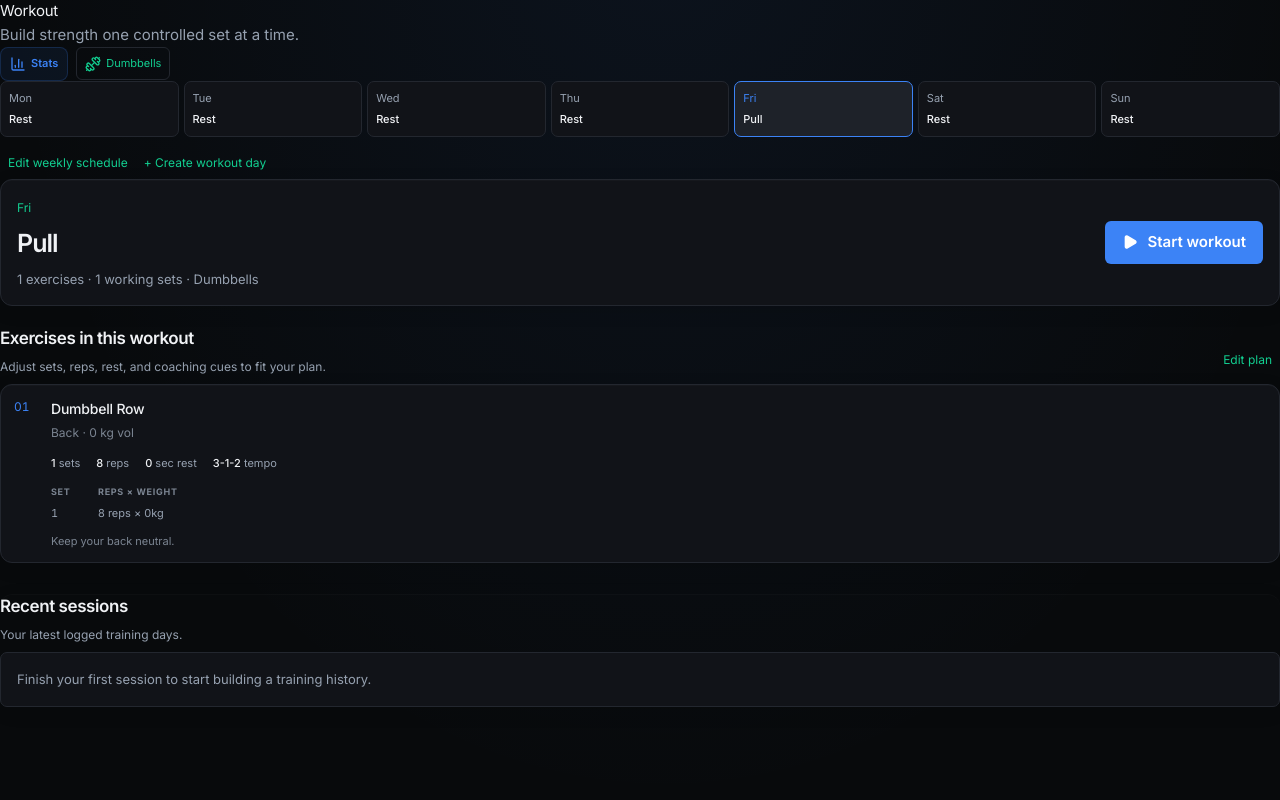
WorkoutPage › starts, pauses, resumes, and safely discards an unfinished session
The image size is (1280, 800).
Click the button "Start workout": (1184, 242) [1106,221,1263,264]
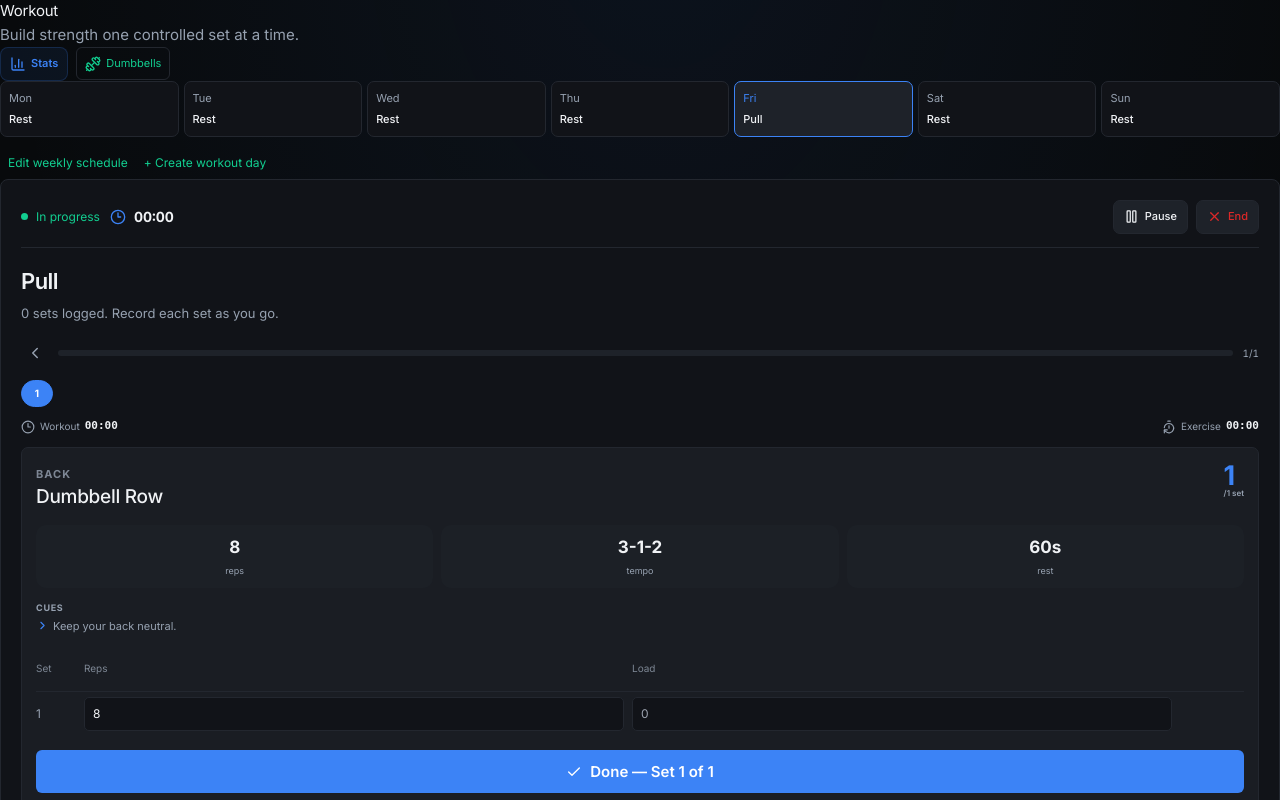
Check: the heading "Pull" is shown, box [21,268,58,294]
Click the button "Pause": (1150, 216) [1113,200,1188,234]
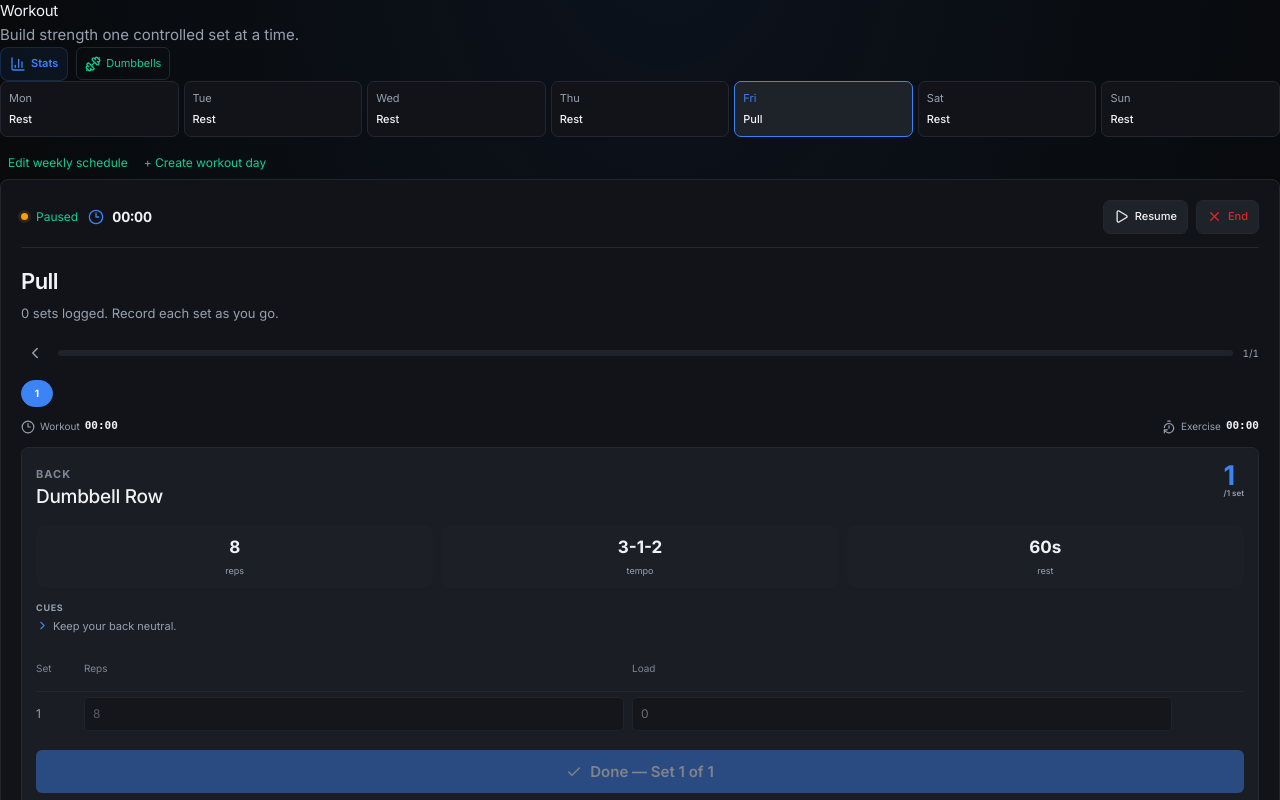
Check: the button "Resume" is shown
Check: the button "Done — Set 1 of 1" is disabled, box [36,750,1244,793]
Click the button "Resume": (1145, 216) [1103,200,1188,234]
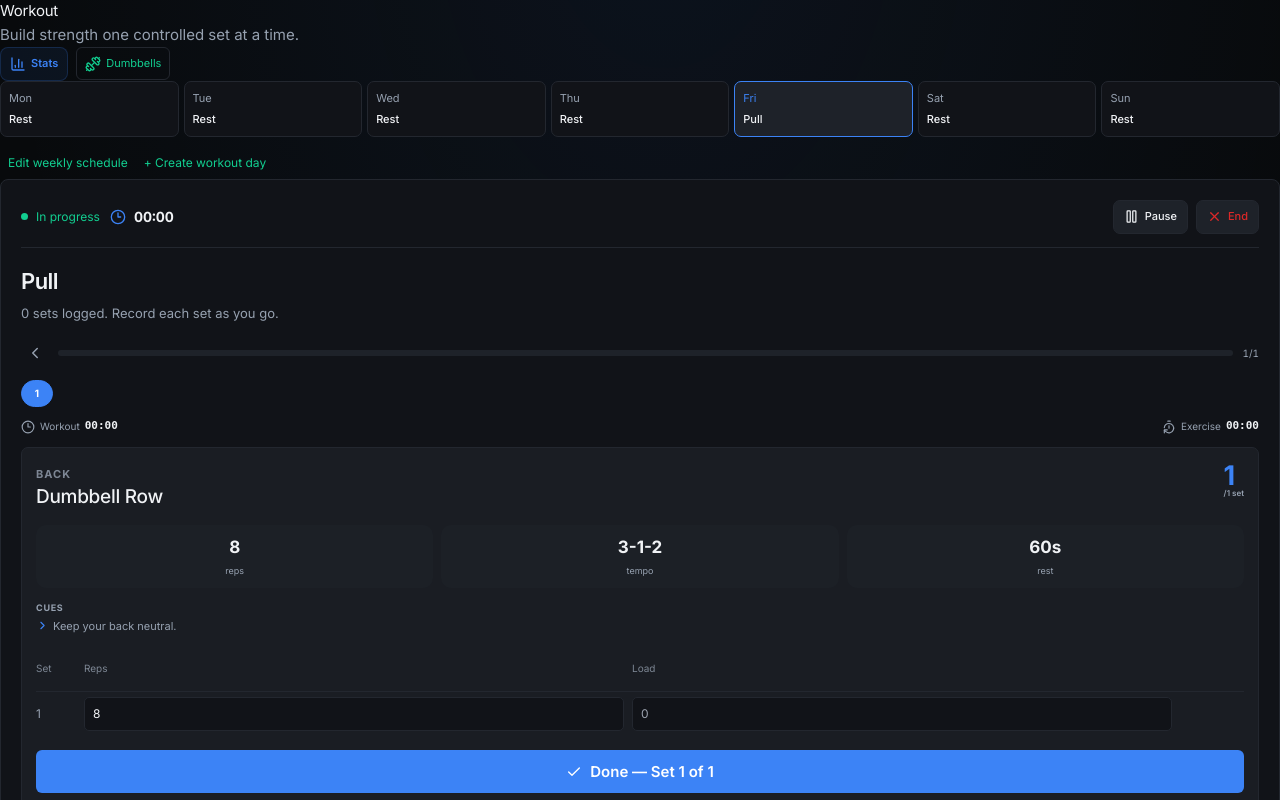
Click the button "End": (1227, 216) [1196,200,1259,234]
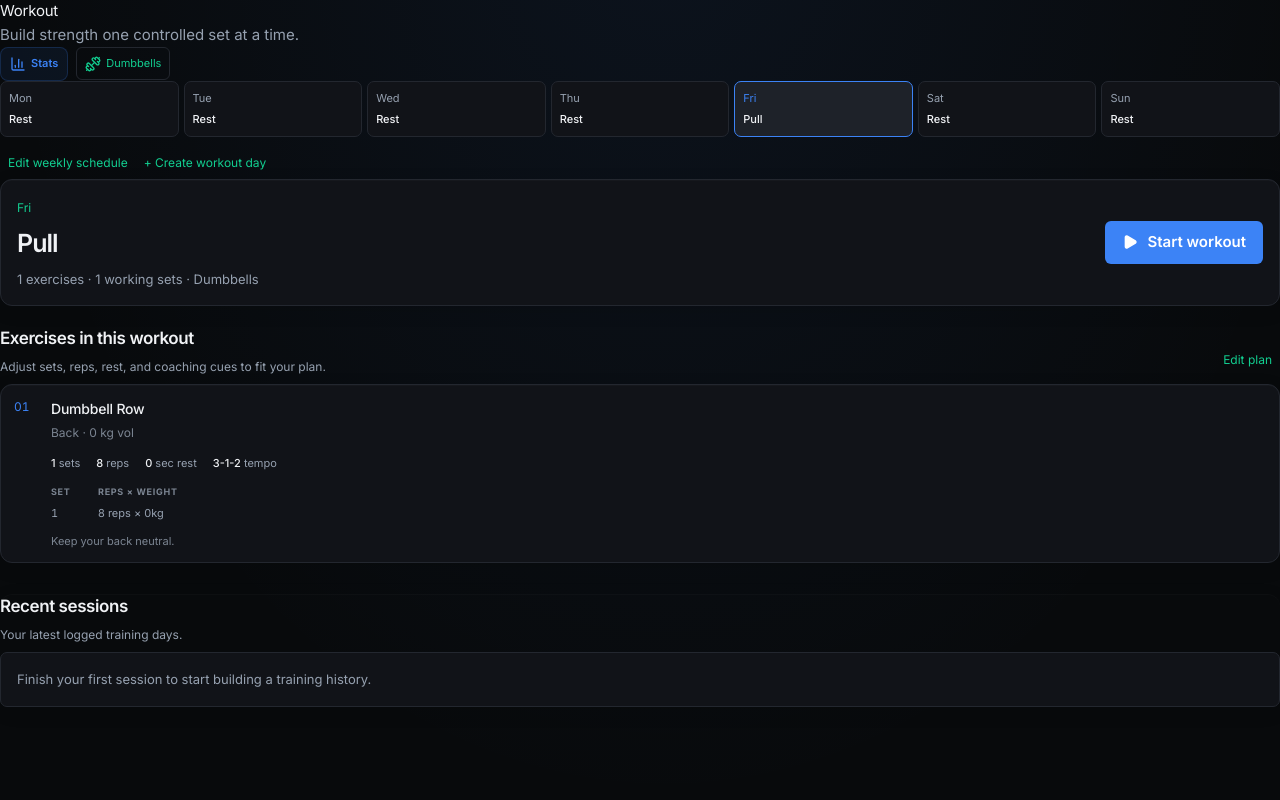
Check: the button "Start workout" is shown, box [1106,221,1263,264]
